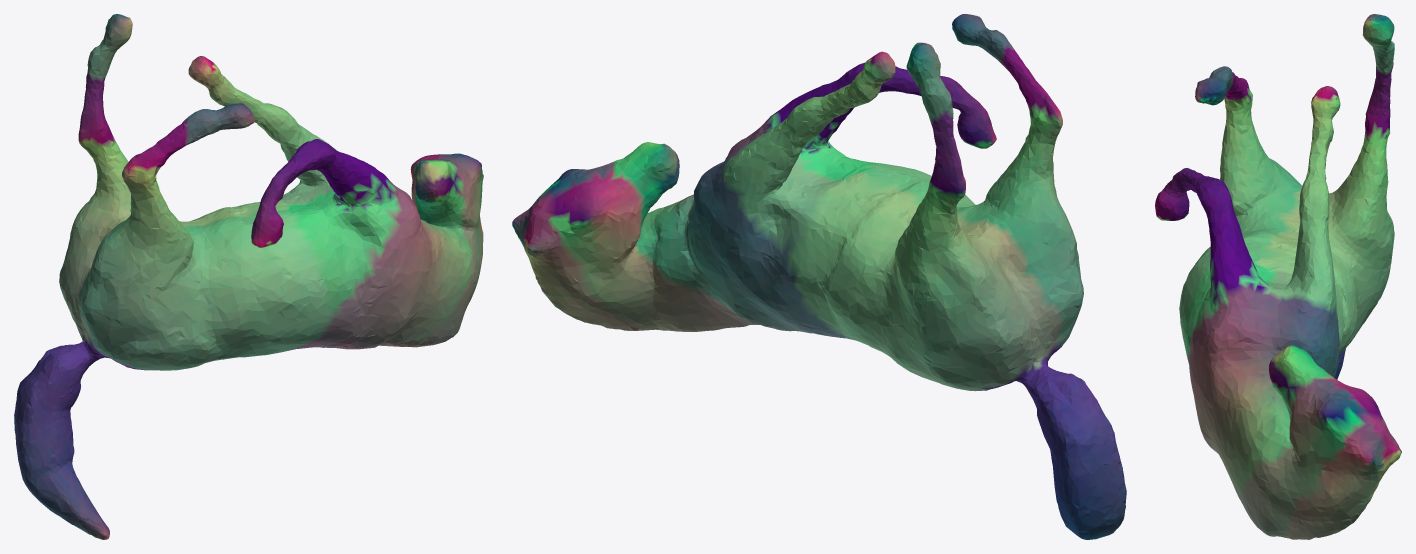
Rendered from horse-14.off.obj.
The picture shows the model from 3 angles, left to right: view 1: azimuth 30°, elevation 25°; view 2: azimuth 150°, elevation 25°; view 3: azimuth 270°, elevation 25°; orthographic projection. The views are drawn at different scales.
Bounding box in the file's own units: 1.58 × 1.37 × 0.6394.
